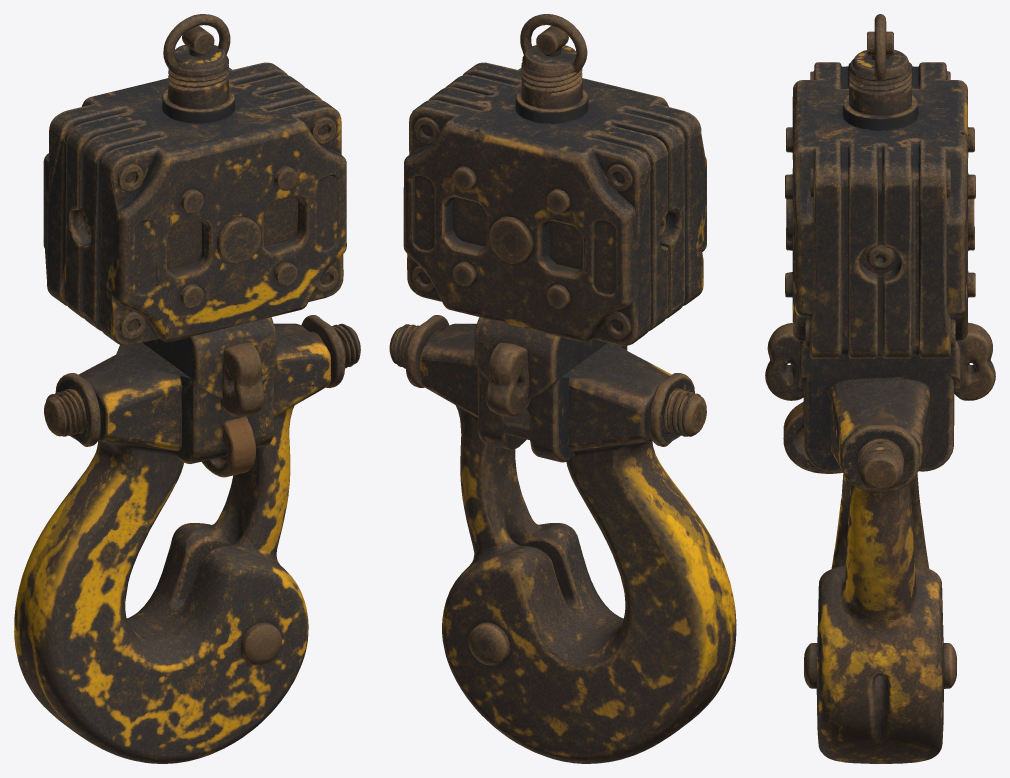
File: crane_hook_block.glb
3 views of the same model, side by side, from view 1: azimuth 30°, elevation 25°; view 2: azimuth 150°, elevation 25°; view 3: azimuth 270°, elevation 25° (orthographic). The views are drawn at different scales.
Bounding box in the file's own units: 0.903 × 1.9 × 0.5334.
Materials: 1 (1 with a texture image).
